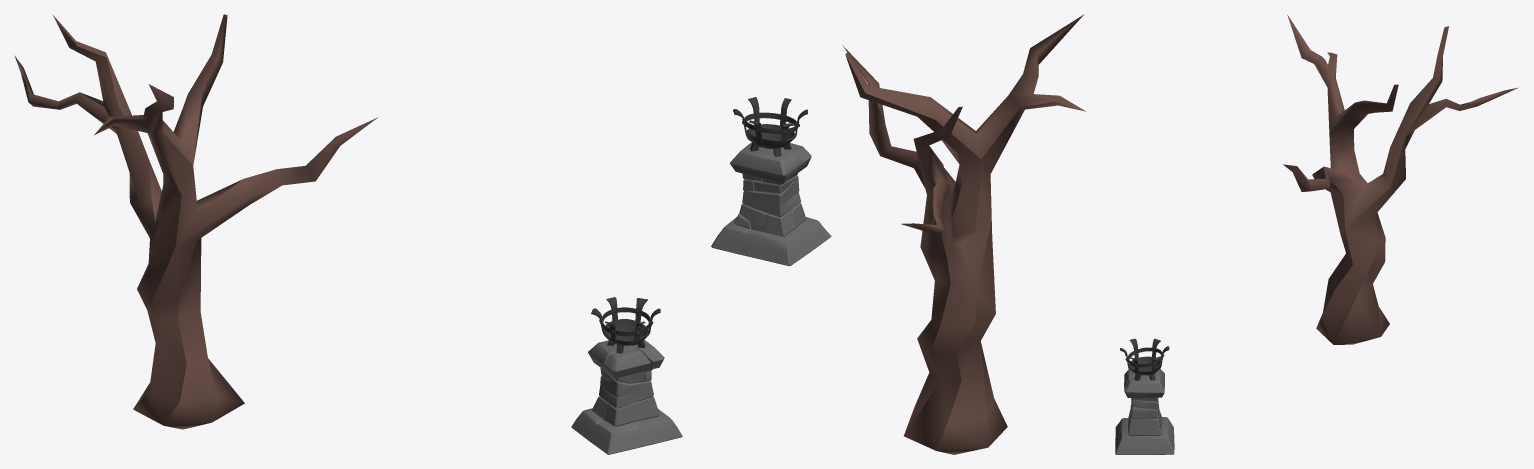
File: deadTree.glb
3 renders of one model, left to right at view 1: azimuth 30°, elevation 25°; view 2: azimuth 150°, elevation 25°; view 3: azimuth 270°, elevation 25°, orthographic. The views are drawn at different scales.
Visible parts, largest first — view 1: DeadTree, Brazier; view 2: DeadTree, Brazier; view 3: DeadTree, Brazier.
Boxes of the visible parts, x1=… form: DeadTree: x1=14, y1=14, x2=378, y2=429; Brazier: x1=571, y1=297, x2=682, y2=454; DeadTree: x1=842, y1=14, x2=1085, y2=454; Brazier: x1=711, y1=97, x2=831, y2=265; DeadTree: x1=1283, y1=15, x2=1518, y2=344; Brazier: x1=1115, y1=338, x2=1174, y2=454.
Size of the model in its own units: 8.27 by 6.95 by 8.44.
